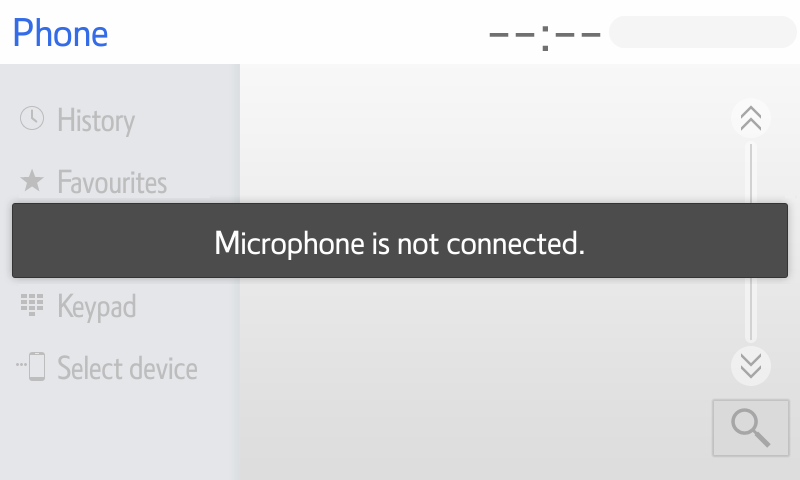untouchPart: (471, 9, 792, 51), (9, 350, 200, 391), (17, 91, 141, 145), (13, 283, 154, 327), (708, 398, 798, 465), (18, 164, 175, 200), (10, 11, 122, 55), (726, 349, 777, 385), (728, 103, 771, 139)
